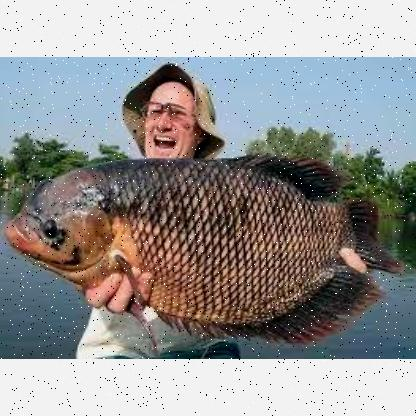gurame: (3, 151, 392, 339)
